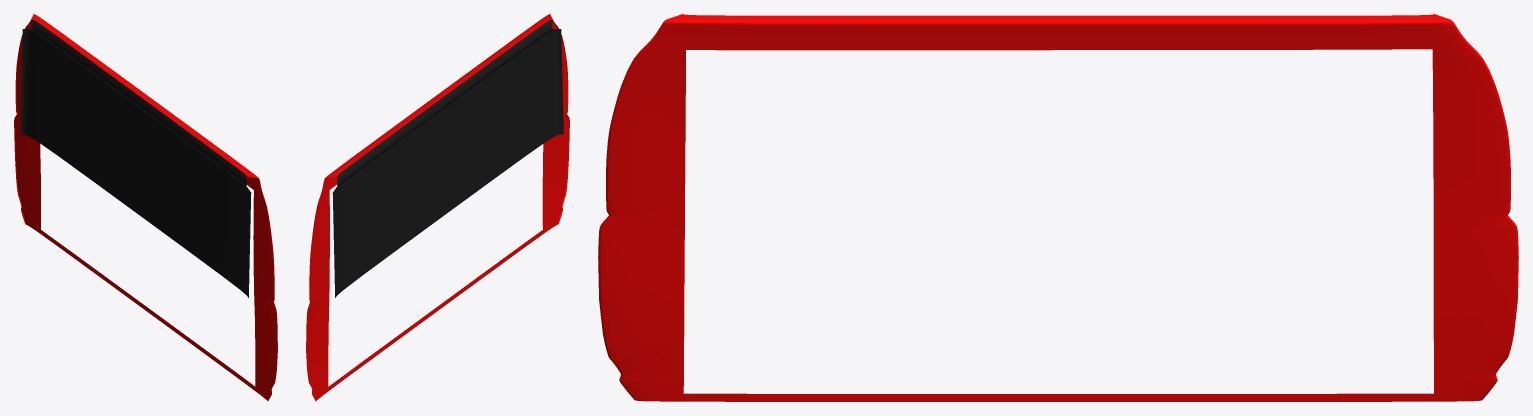
3 renders of one model, left to right at view 1: azimuth 30°, elevation 25°; view 2: azimuth 150°, elevation 25°; view 3: azimuth 270°, elevation 25°, orthographic. The views are drawn at different scales.
Parts seen in each view (by area): view 1: U805_4A_505J_C_U805_4A_505J_C_2_D, U805_4A_505J_C_1_DaS_U805_4A_505J_C, U805_4A_505J_C_1_DaS_U805_4A_505J_C_E; view 2: U805_4A_505J_C_U805_4A_505J_C_2_D, U805_4A_505J_C_1_DaS_U805_4A_505J_C, U805_4A_505J_C_1_DaS_U805_4A_505J_C_E; view 3: U805_4A_505J_C_1_DaS_U805_4A_505J_C, U805_4A_505J_C_1_DaS_U805_4A_505J_C_E.
Boxes of the visible parts, box(x1,y1,x2,y2) form: U805_4A_505J_C_U805_4A_505J_C_2_D: box(20, 19, 251, 297); U805_4A_505J_C_1_DaS_U805_4A_505J_C: box(15, 22, 277, 400); U805_4A_505J_C_1_DaS_U805_4A_505J_C_E: box(14, 14, 277, 400); U805_4A_505J_C_U805_4A_505J_C_2_D: box(332, 19, 563, 297); U805_4A_505J_C_1_DaS_U805_4A_505J_C: box(306, 22, 568, 400); U805_4A_505J_C_1_DaS_U805_4A_505J_C_E: box(306, 14, 569, 400); U805_4A_505J_C_1_DaS_U805_4A_505J_C: box(600, 22, 1516, 401); U805_4A_505J_C_1_DaS_U805_4A_505J_C_E: box(598, 14, 1518, 400).
Bounding box in the file's own units: 5.77 × 79.89 × 175.
